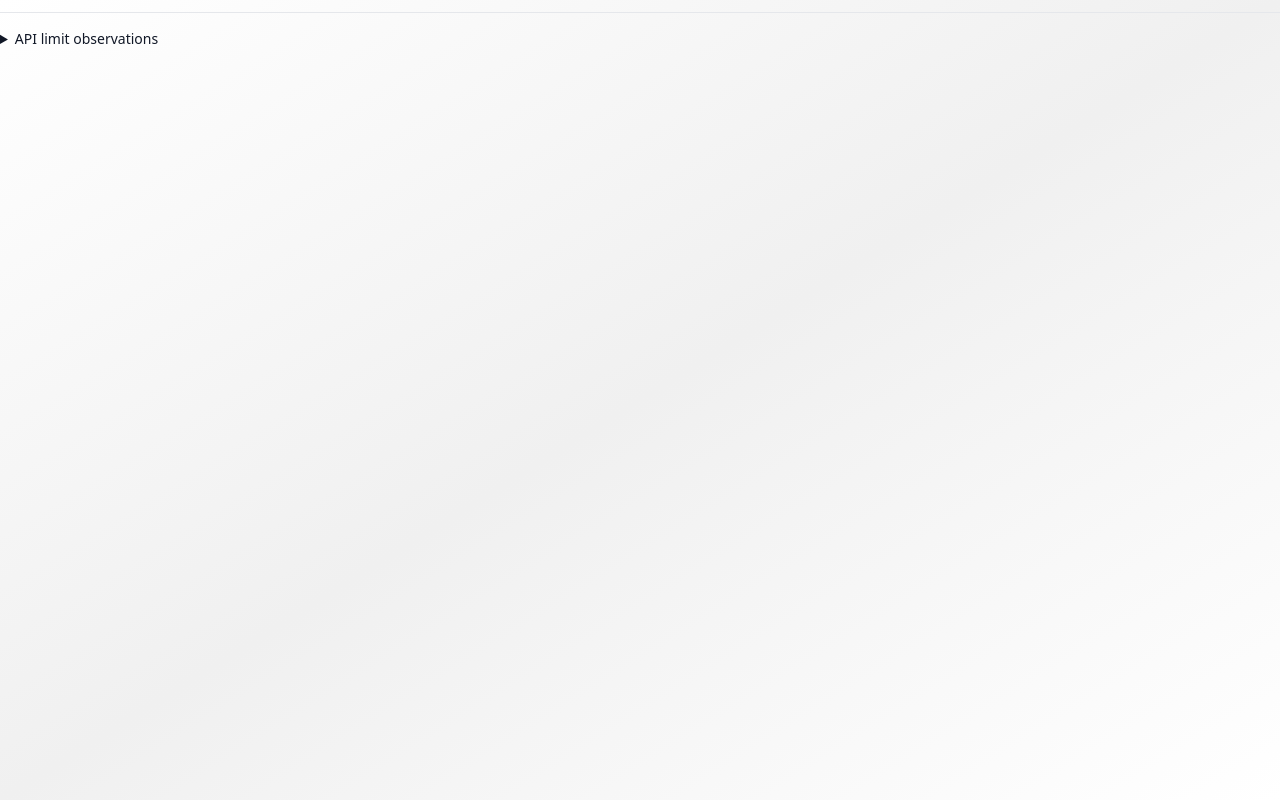
provider HTTP limit observations › shows subscription usage windows reported by unified headers
Click the heading "API limit observations". click: (86, 38)
box: [15,29,158,48]
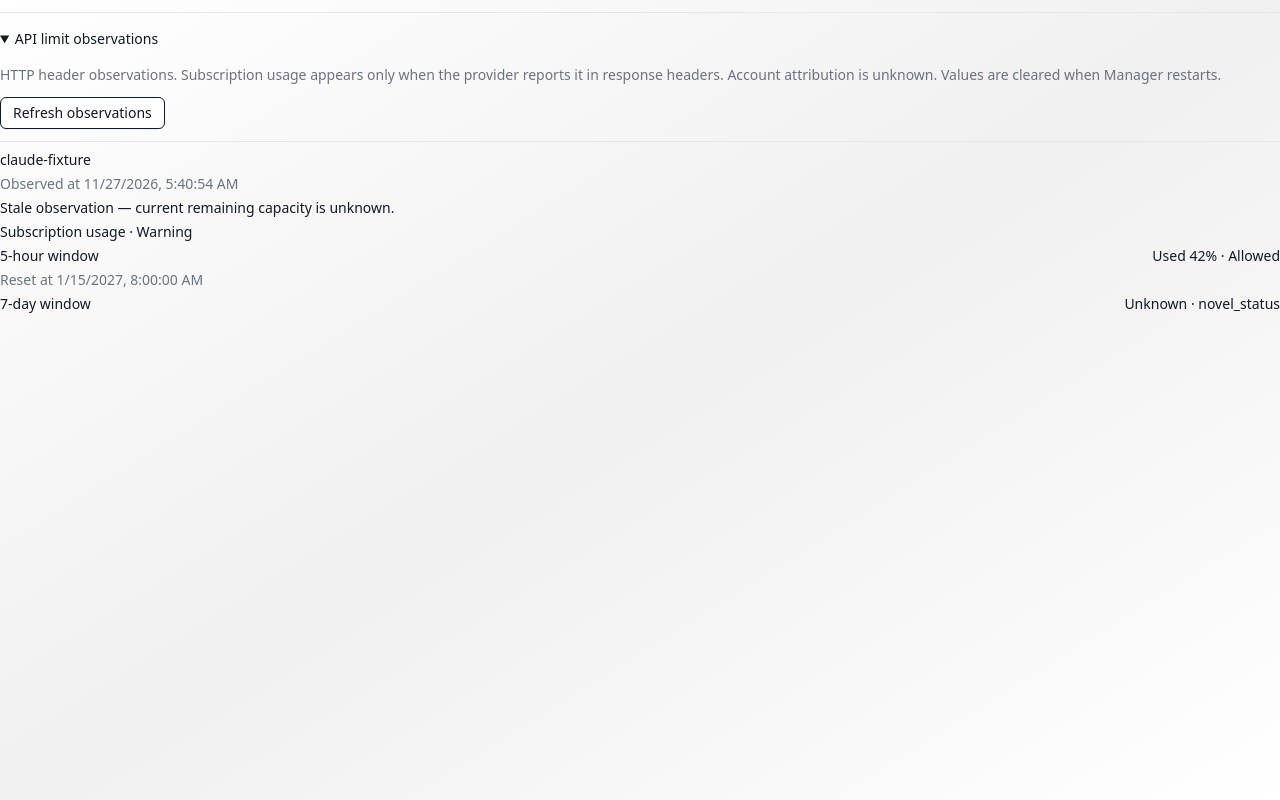
Check: the element with test id "subscription-usage" shows "Subscription usage · Warning", box [0,222,1279,314]
Check: the element with test id "subscription-usage" shows "5-hour window", box [0,246,99,265]
Check: the element with test id "subscription-usage" shows "Used 42% · Allowed", box [0,222,1279,314]
